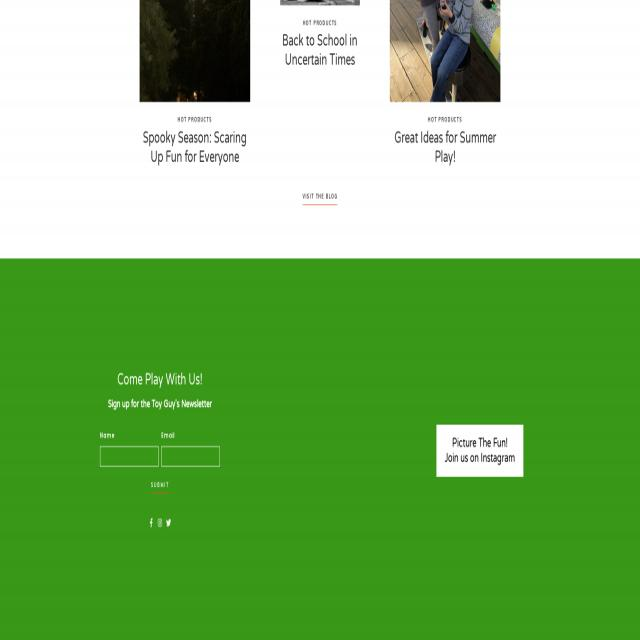button: (140, 0, 250, 102), (390, 0, 500, 102), (148, 518, 154, 527), (157, 518, 163, 527), (166, 518, 172, 527)
field: (100, 447, 159, 467), (161, 447, 220, 467), (151, 479, 169, 494)
